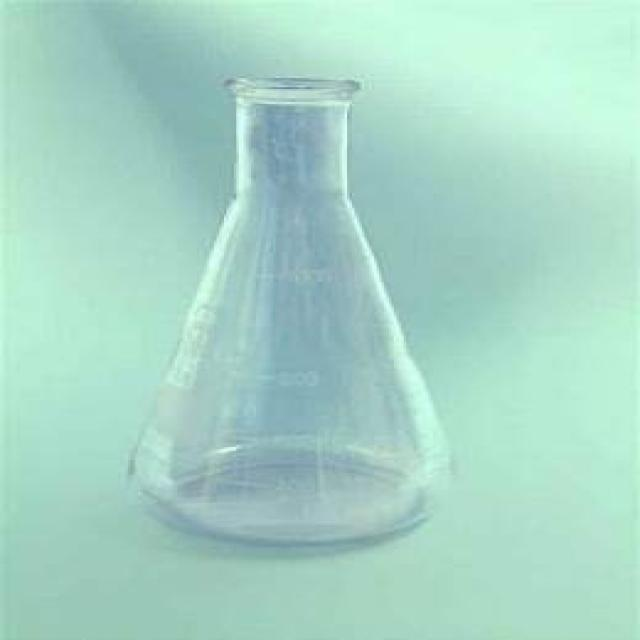Titrarion: (131, 65, 452, 560)
